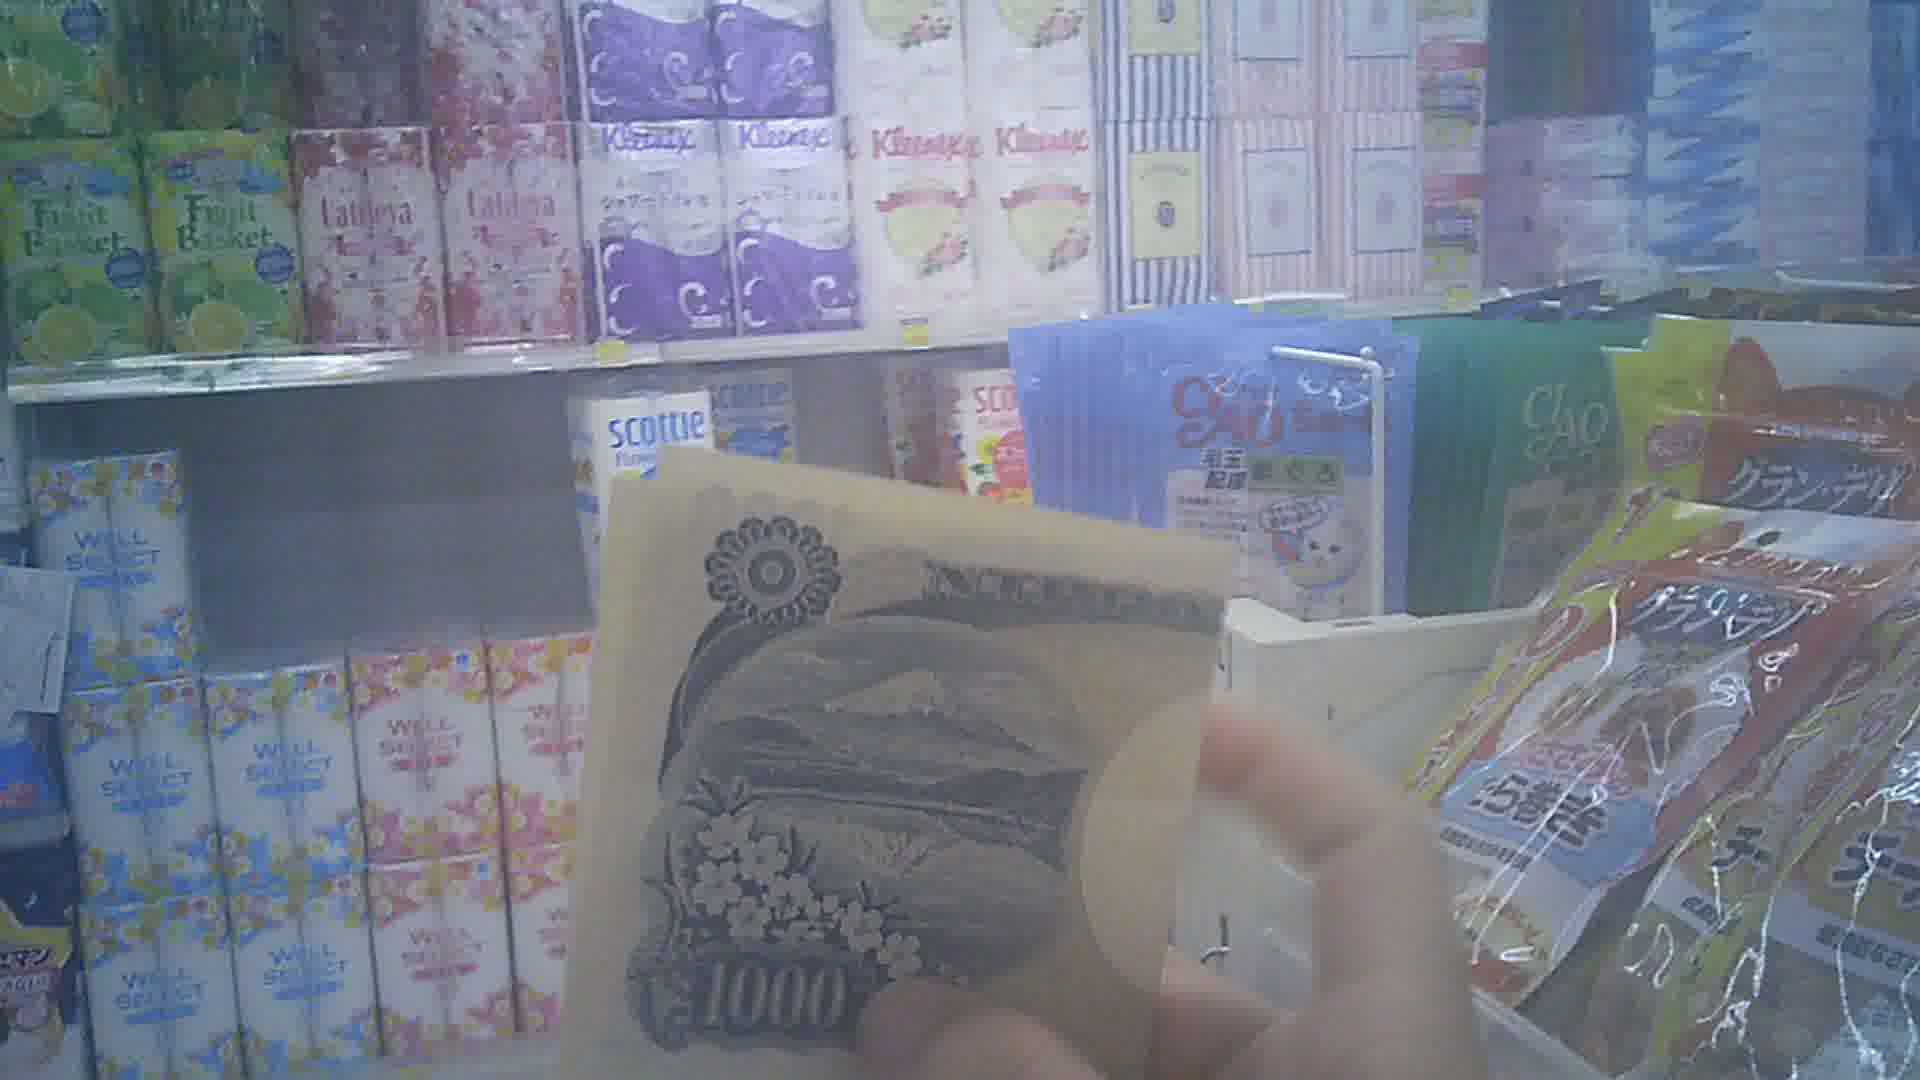1,000 Yen: (575, 458, 1217, 1068)
